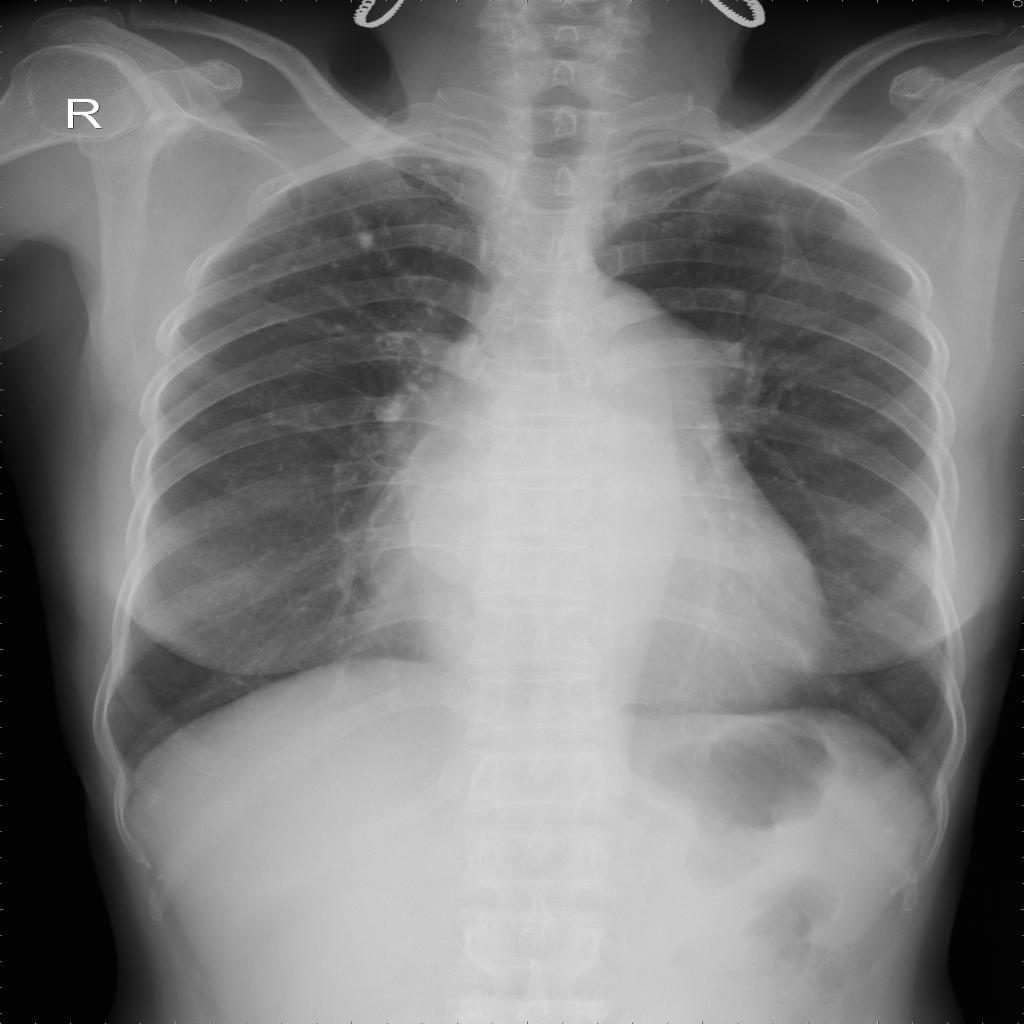Nodule: (359, 230, 377, 252)
